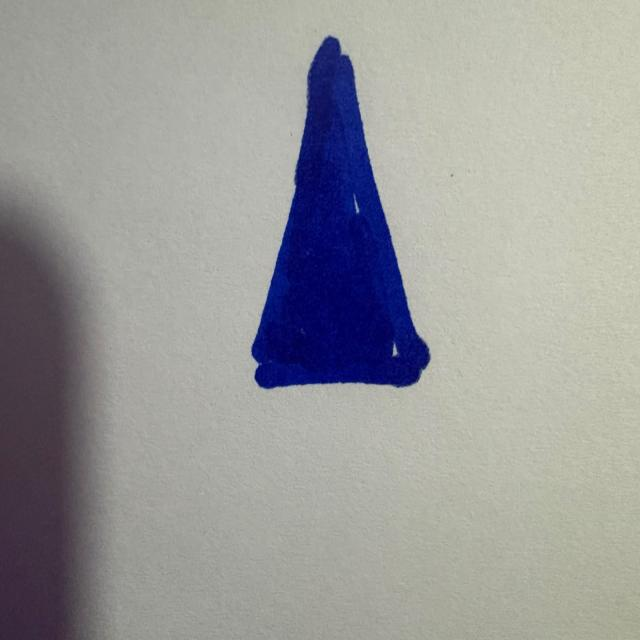Triangle: (252, 36, 430, 388)
